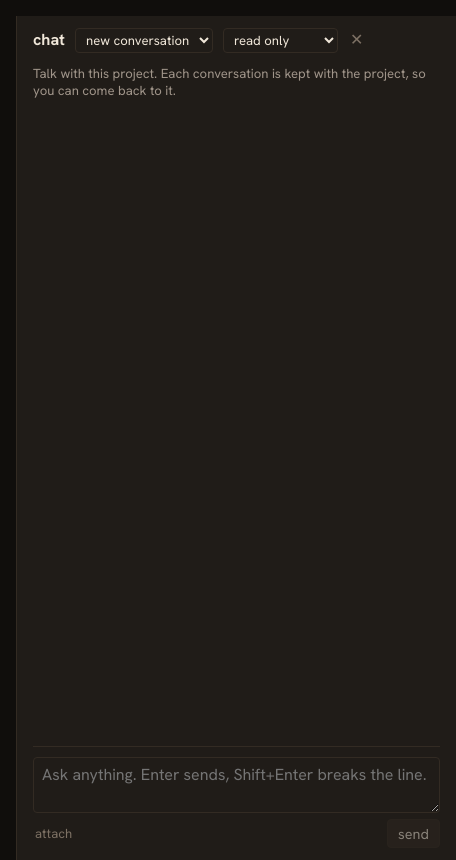
Test: past conversations are there to go back to, named by how they began
Select "a new question" in the dropdown named "Conversation" at [144, 40], box [75,28,213,53]
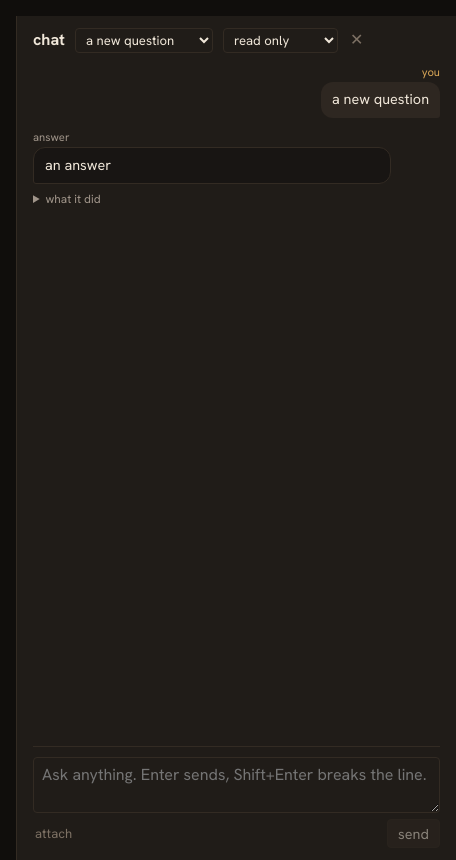
Result: the text "an answer" is shown at [33,147,391,184]
Select "new conversation" in the dropdown named "Conversation" at [144, 40], box [75,28,213,53]
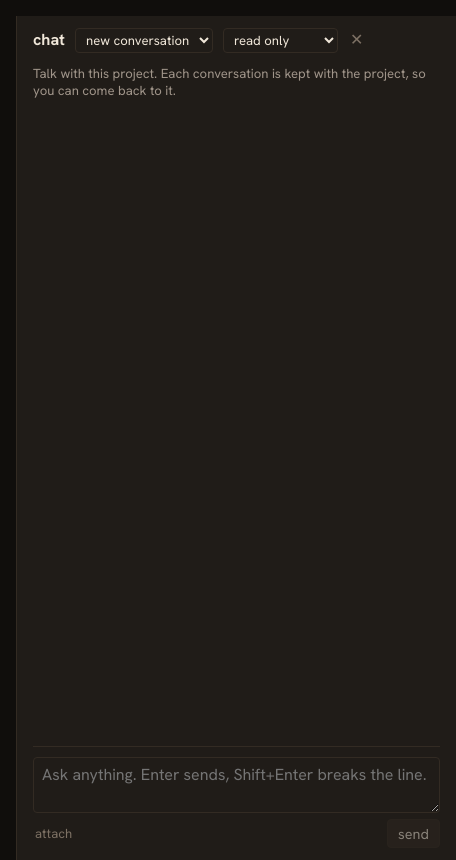
Result: the list item with class "chat-turn" is gone
